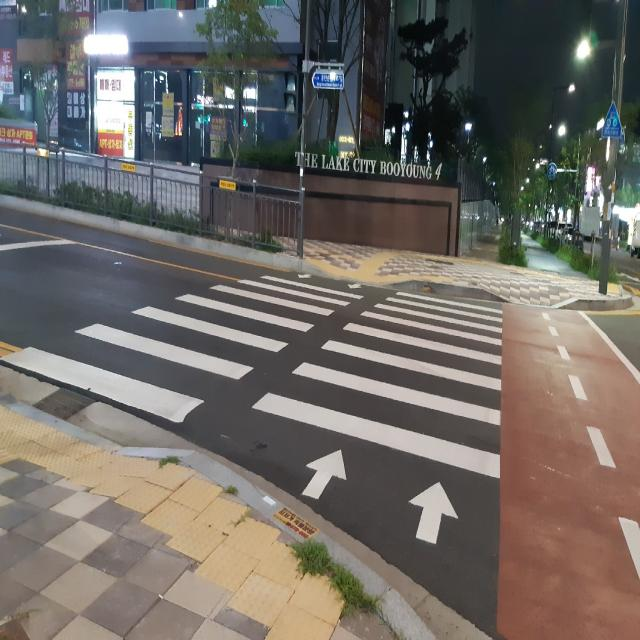횡단보도: (1, 272, 502, 545)
